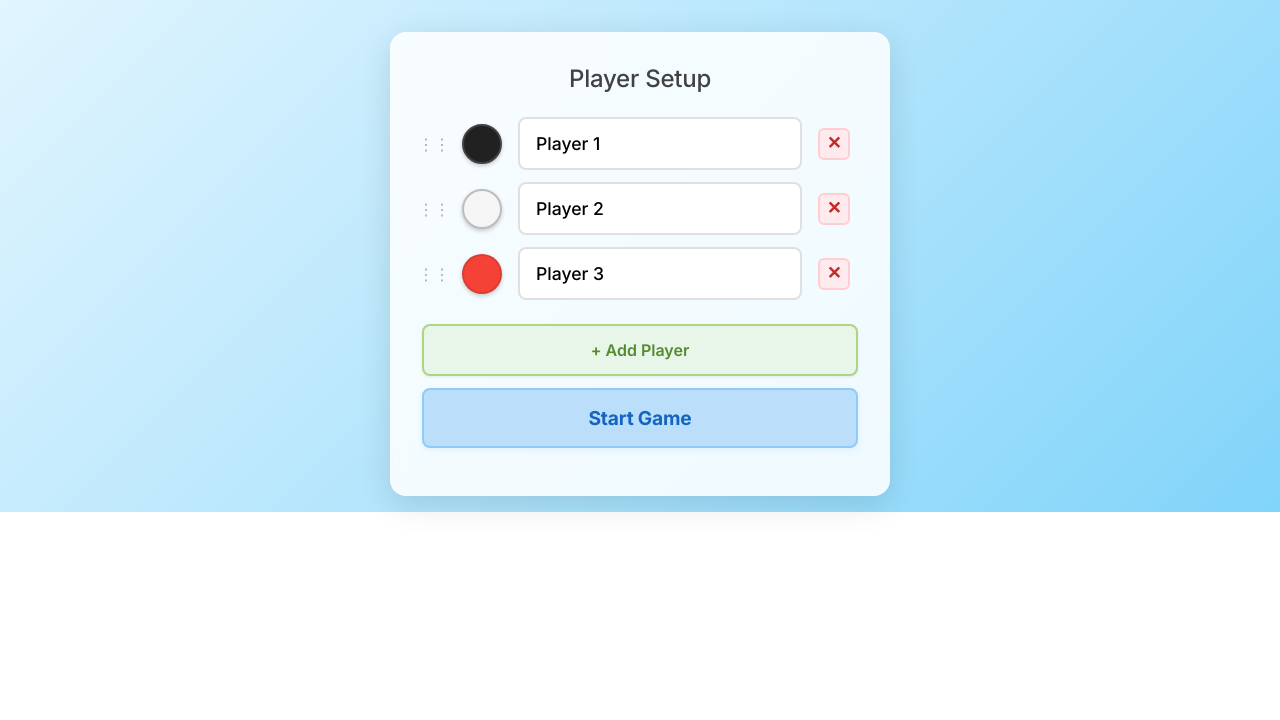
Scenario: PlayerSetup › should disable start button when any player name is empty
Expected: the button "Start Game" is enabled, [422, 388, 858, 448]
Note: Clear one name
Clear the field named "Player 1 name": (660, 144) [518, 117, 802, 170]
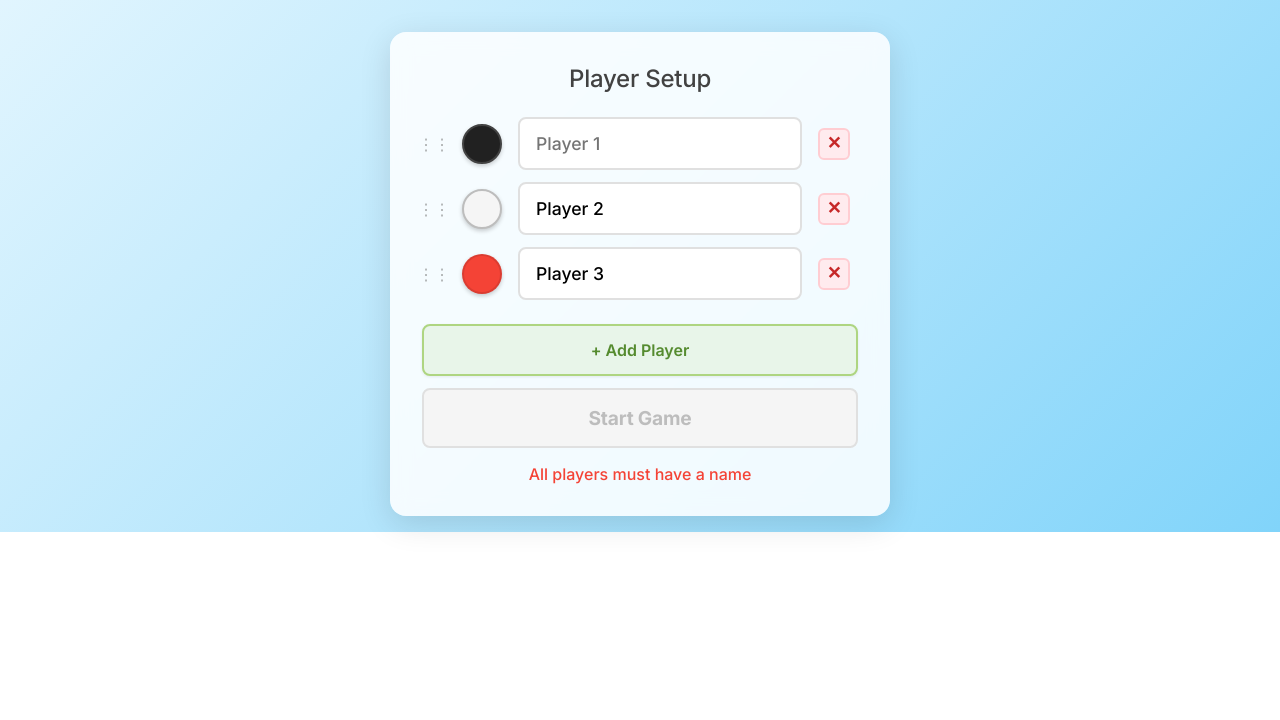
Now the button "Start Game" is disabled, box [422, 388, 858, 448]
